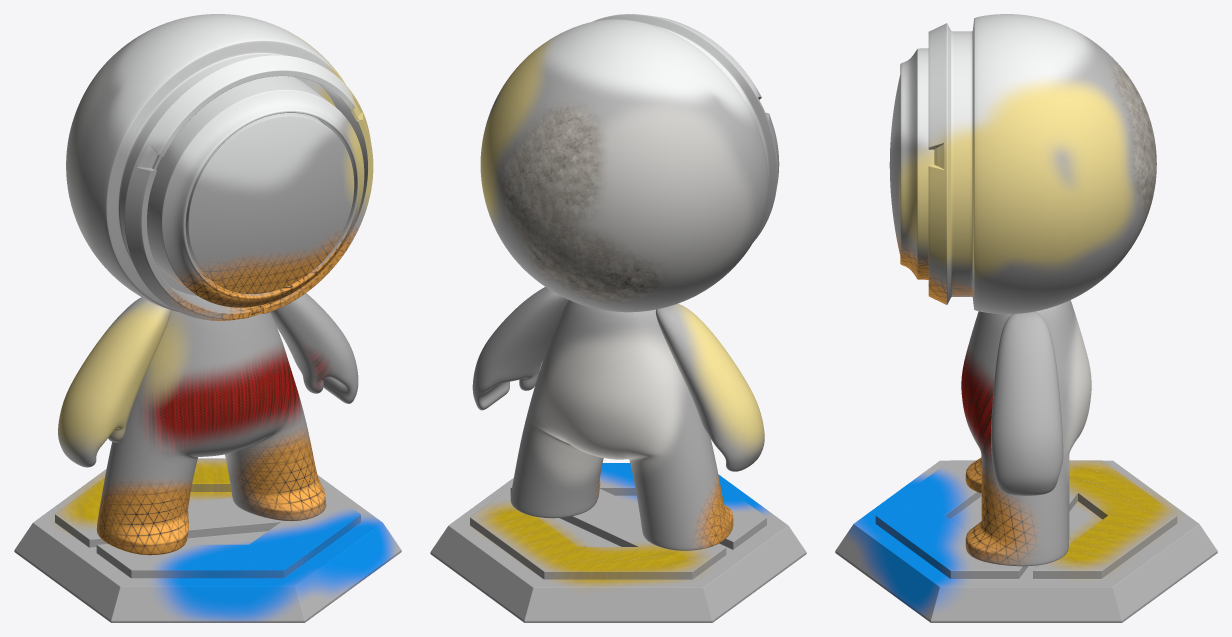
File: myPeople.gltf
3 views of the same model, side by side, from view 1: azimuth 30°, elevation 25°; view 2: azimuth 150°, elevation 25°; view 3: azimuth 270°, elevation 25° (orthographic). The views are drawn at different scales.
Parts seen in each view (by area): view 1: head, body, base; view 2: head, body, base; view 3: head, base, body.
Boxes of the visible parts, <box> form: head: <box>66,14,373,320</box>; body: <box>58,293,358,555</box>; base: <box>14,458,401,622</box>; head: <box>480,14,779,312</box>; body: <box>472,287,764,550</box>; base: <box>430,463,806,622</box>; head: <box>889,14,1156,314</box>; base: <box>835,460,1217,622</box>; body: <box>961,300,1091,566</box>.
Size of the model in its own units: 8.25 by 14.43 by 9.52.
3 materials, 3 textured.
